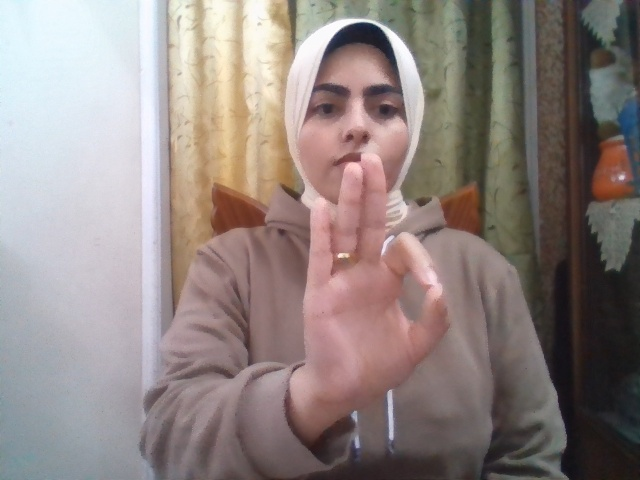F: (303, 154, 452, 409)
